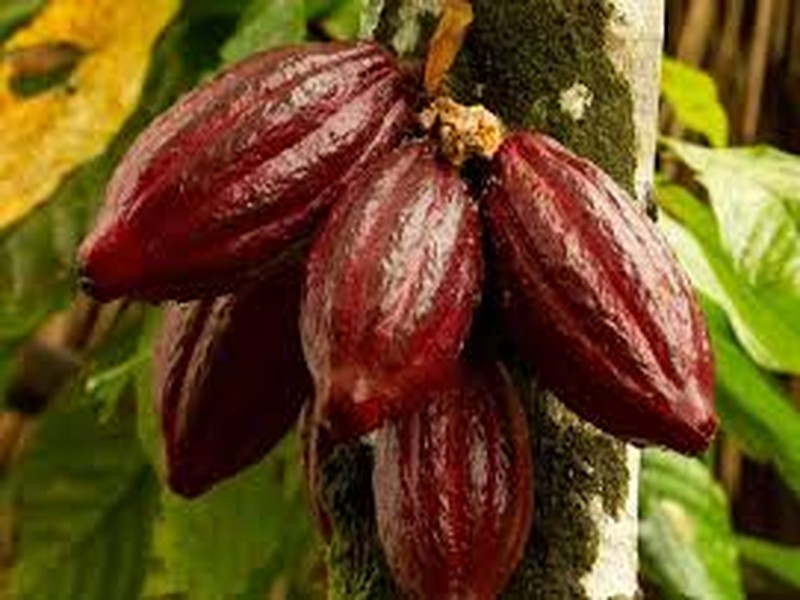Cacaopod: (73, 40, 378, 303), (479, 131, 723, 459), (299, 140, 482, 446)
